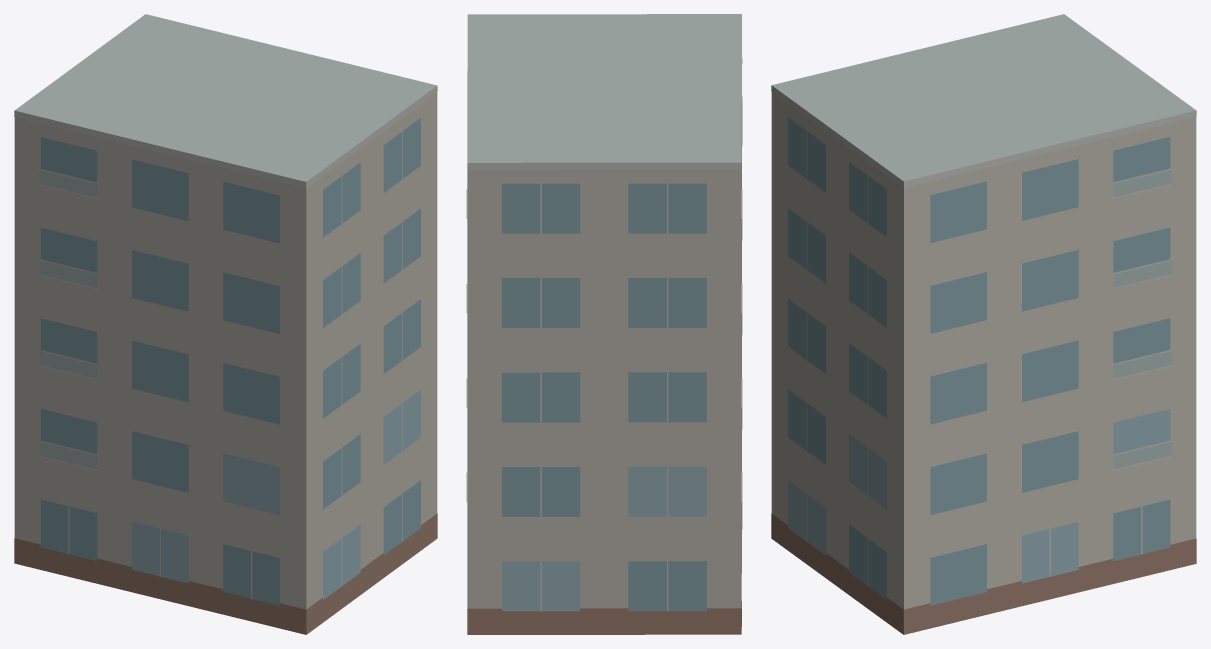
The model's file is survey-upis-32670961.glb.
3 renders of one model, left to right at view 1: azimuth 30°, elevation 25°; view 2: azimuth 150°, elevation 25°; view 3: azimuth 270°, elevation 25°, orthographic. The views are drawn at different scales.
Parts seen in each view (by area): view 1: survey-upis-32670961.tmp; view 2: survey-upis-32670961.tmp; view 3: survey-upis-32670961.tmp.
Boxes of the visible parts, <box> form: survey-upis-32670961.tmp: <box>14,14,437,634</box>; survey-upis-32670961.tmp: <box>466,14,742,634</box>; survey-upis-32670961.tmp: <box>771,14,1196,634</box>.
Size of the model in its own units: 13.56 by 17.1 by 14.54.
